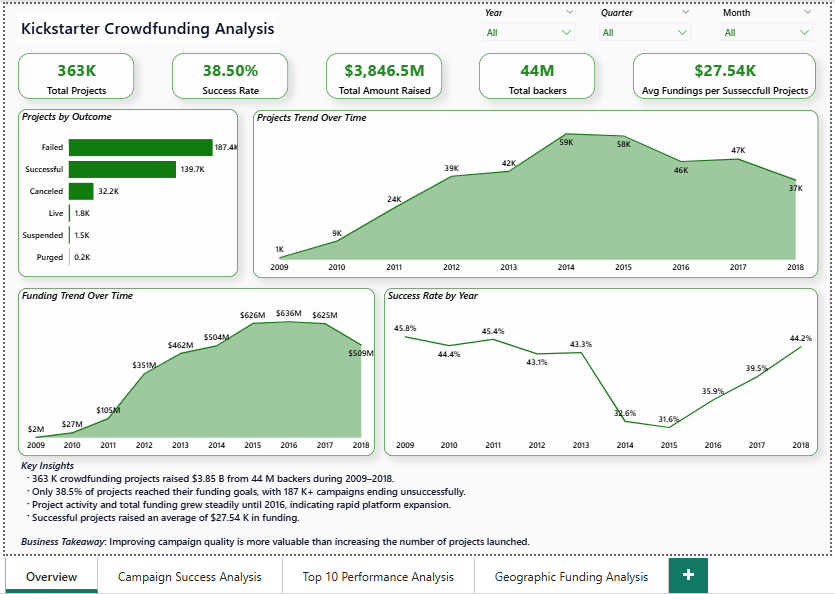

What the dashboard file says about the page in this screenshot:
{"tool":"powerbi","page":{"name":"Overview","canvas":[1350,900],"ordinal":0},"visuals":[{"type":"card","title":"Total Backers ","fields":{"Values":["Measures Table.Total backers"]},"box":[776,79.6,190,75],"z":0},{"type":"card","title":"Total Amount Raised","fields":{"Values":["Measures Table.Total Amount Raised"]},"box":[524.5,80.2,190,75],"z":1000},{"type":"areaChart","title":"Funding Trend Over Time","fields":{"Category":["Projects.created_at_new.Variation.Date Hierarchy.Year","Projects.created_at_new.Variation.Date Hierarchy.Quarter","Projects.created_at_new.Variation.Date Hierarchy.Month"],"Y":["Measures Table.Total Amount Raised"]},"box":[21.3,464.7,584.2,275],"z":2000},{"type":"card","title":"Avg Fundings per Susseccfull Projects","fields":{"Values":["Measures Table.Avg Fundings per Susseccfull Projects"]},"box":[1027.6,80.2,299.5,75.3],"z":3000},{"type":"lineChart","title":"Success Rate by Year","fields":{"Category":["Projects.created_at_new.Variation.Date Hierarchy.Year","Projects.created_at_new.Variation.Date Hierarchy.Quarter","Projects.created_at_new.Variation.Date Hierarchy.Month"],"Y":["Measures Table.Success Rate"]},"box":[620.2,464.7,710.2,275],"z":4000},{"type":"barChart","title":"Projects by Outcome","fields":{"Category":["Projects.state"],"Y":["Measures Table.Total Projects"]},"box":[21.3,172.6,360,275],"z":5000},{"type":"lineChart","title":"Projects Trend Over Time","fields":{"Y":["Measures Table.Total Projects"],"Category":["Projects.created_at_new.Variation.Date Hierarchy.Year","Projects.created_at_new.Variation.Date Hierarchy.Quarter","Projects.created_at_new.Variation.Date Hierarchy.Month"]},"box":[405.8,172.7,924.5,275],"z":6000},{"type":"slicer","fields":{"Values":["Projects.created_at_new.Variation.Date Hierarchy.Year"]},"box":[777.3,3.3,160,75],"z":7000},{"type":"slicer","fields":{"Values":["Projects.created_at_new.Variation.Date Hierarchy.Quarter"]},"box":[967.1,3.3,160,75],"z":8000},{"type":"card","title":"Total Projects","fields":{"Values":["Measures Table.Total Projects"]},"box":[21.3,80.2,190,75.3],"z":9000},{"type":"card","title":"Success Rate","fields":{"Values":["Measures Table.Success Rate"]},"box":[272.9,80.5,190,75],"z":10000},{"type":"textbox","box":[21.3,739.6,1309.1,160.4],"z":11000},{"type":"textbox","box":[21.7,15,425,50],"z":12000},{"type":"slicer","title":"Month","fields":{"Values":["Projects.created_at_new.Variation.Date Hierarchy.Month"]},"box":[1166.7,3.3,160,75],"z":13000}]}

Visuals, with their boxes on the page's 1350x900 design canvas (x1, y1, x2, y2). These are canvas units, not pixel positions in the 835x594 screenshot, which may show the page scaled, cropped or inside an application window:
"Total Backers " card: <bbox>776, 80, 966, 155</bbox>
"Total Amount Raised" card: <bbox>524, 80, 714, 155</bbox>
"Funding Trend Over Time" areaChart: <bbox>21, 465, 606, 740</bbox>
"Avg Fundings per Susseccfull Projects" card: <bbox>1028, 80, 1327, 156</bbox>
"Success Rate by Year" lineChart: <bbox>620, 465, 1330, 740</bbox>
"Projects by Outcome" barChart: <bbox>21, 173, 381, 448</bbox>
"Projects Trend Over Time" lineChart: <bbox>406, 173, 1330, 448</bbox>
slicer - Projects.created_at_new.Variation.Date Hierarchy.Year: <bbox>777, 3, 937, 78</bbox>
slicer - Projects.created_at_new.Variation.Date Hierarchy.Quarter: <bbox>967, 3, 1127, 78</bbox>
"Total Projects" card: <bbox>21, 80, 211, 156</bbox>
"Success Rate" card: <bbox>273, 80, 463, 156</bbox>
textbox: <bbox>21, 740, 1330, 900</bbox>
textbox: <bbox>22, 15, 447, 65</bbox>
"Month" slicer: <bbox>1167, 3, 1327, 78</bbox>
